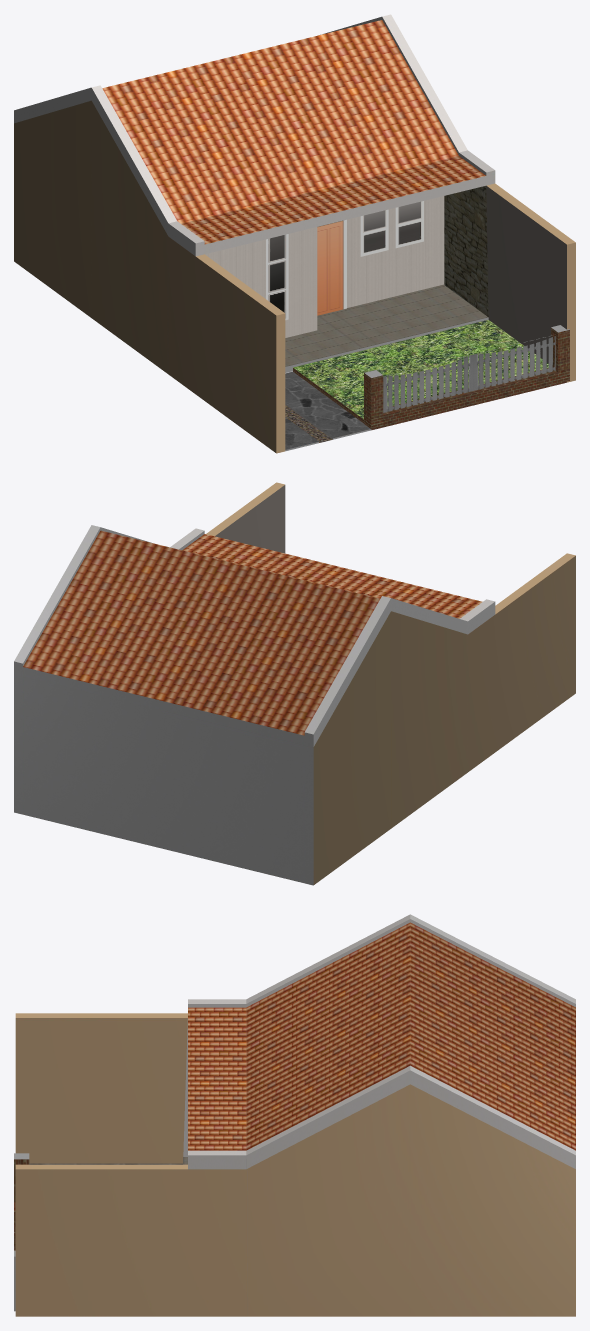
Rendered from simplehouse.dae.
3 renders of one model, top to bottom at view 1: azimuth 30°, elevation 25°; view 2: azimuth 150°, elevation 25°; view 3: azimuth 270°, elevation 25°, orthographic. The views are drawn at different scales.
Visible parts, largest first — view 1: Cube_001, Cube_002; view 2: Cube_001; view 3: Cube_001.
Part boxes in pixels (box(x1,y1,x2,y2)): Cube_001: box(14, 14, 575, 453); Cube_002: box(383, 334, 555, 412); Cube_001: box(14, 482, 575, 885); Cube_001: box(14, 914, 575, 1316).
Size of the model in its own units: 5.34 by 8.12 by 3.93.
Materials: 2 (2 with a texture image).
